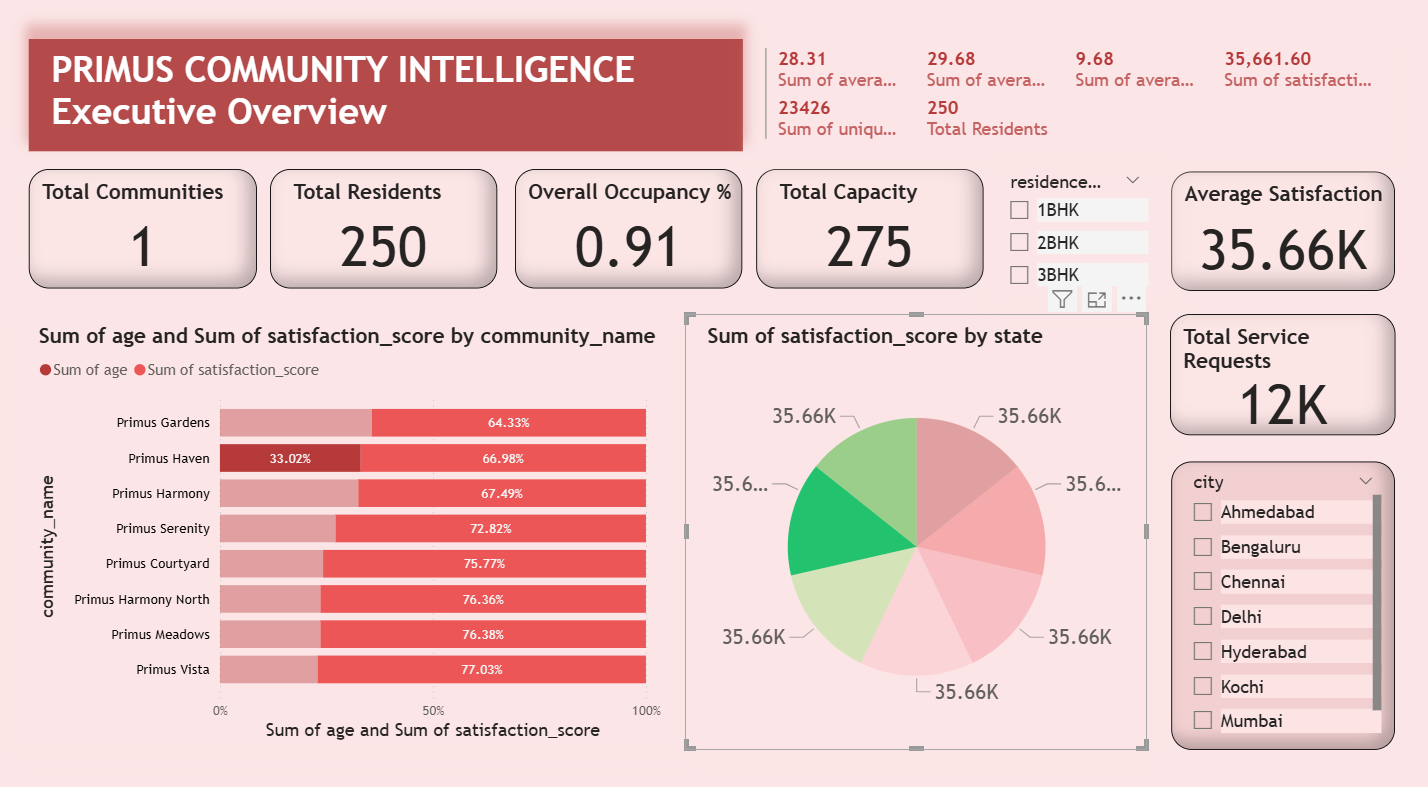

What the dashboard file says about the page in this screenshot:
{"tool":"powerbi","page":{"name":"Page 1","canvas":[1280,720],"ordinal":0},"visuals":[{"type":"textbox","box":[30.2,44.6,635.8,100.1],"z":0},{"type":"card","title":"Total Communities","fields":{"Values":["communities.Total Communities"]},"box":[30.6,160.2,203,106.4],"z":1000},{"type":"card","title":"Total Residents","fields":{"Values":["residents.Total Residents"]},"box":[244.9,160.5,202.7,106.2],"z":2000},{"type":"card","title":"Overall Occupancy %","fields":{"Values":["communities.Overall Occupancy %"]},"box":[463.3,160.5,202.7,106.2],"z":3000},{"type":"card","title":"Total Capacity","fields":{"Values":["communities.Total Capacity"]},"box":[678,160.5,202.7,106.2],"z":4000},{"type":"card","title":"Average Satisfaction","fields":{"Values":["Sum(resident_engagement.satisfaction_score)"]},"box":[1048,162.6,199.3,106.4],"z":5000},{"type":"card","title":"Total Service Requests","fields":{"Values":["Sum(resident_engagement.service_requests)"]},"box":[1046.7,289.8,200.5,107.6],"z":6000},{"type":"hundredPercentStackedBarChart","fields":{"Y":["Sum(residents.age)","Sum(resident_engagement.satisfaction_score)"],"Category":["communities.community_name"]},"box":[19.3,289.5,594.8,387.3],"z":7000},{"type":"pieChart","fields":{"Category":["communities.state"],"Y":["Sum(resident_engagement.satisfaction_score)"]},"box":[614.1,289.5,412.6,388.5],"z":8000},{"type":"slicer","fields":{"Values":["communities.city"]},"box":[1048,420.7,199.3,256.8],"z":9000},{"type":"slicer","fields":{"Values":["residents.residence_type"]},"box":[875.9,153.2,171.3,125.5],"z":10000},{"type":"multiRowCard","fields":{"Values":["Sum(community_experience_summary.average_activities)","Sum(community_experience_summary.average_satisfaction)","Sum(community_experience_summary.average_service_requests)","Sum(resident_engagement.satisfaction_score)","Sum(resident_engagement.unique_activity_types)","residents.Total Residents"]},"box":[666,44.6,581.5,108.6],"z":11000}]}

Visuals, with their boxes in screenshot pixels (x1, y1, x2, y2), scaled from the page's 1280x720 canvas onto the 1428x787 screenshot:
textbox: [34, 49, 743, 158]
"Total Communities" card: [34, 175, 261, 291]
"Total Residents" card: [273, 175, 499, 292]
"Overall Occupancy %" card: [517, 175, 743, 292]
"Total Capacity" card: [756, 175, 983, 292]
"Average Satisfaction" card: [1169, 178, 1392, 294]
"Total Service Requests" card: [1168, 317, 1391, 434]
hundredPercentStackedBarChart - Sum(residents.age) x Sum(resident_engagement.satisfaction_score): [22, 316, 685, 740]
pieChart - communities.state x Sum(resident_engagement.satisfaction_score): [685, 316, 1145, 741]
slicer - communities.city: [1169, 460, 1392, 741]
slicer - residents.residence_type: [977, 167, 1168, 305]
multiRowCard - Sum(community_experience_summary.average_activities) x Sum(community_experience_summary.average_satisfaction): [743, 49, 1392, 167]
